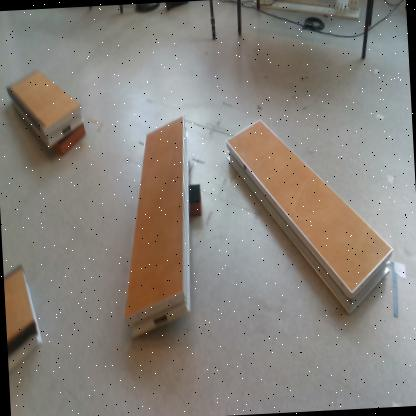Stairs: (228, 119, 393, 313), (125, 116, 191, 340), (8, 71, 83, 150), (4, 265, 43, 375)
